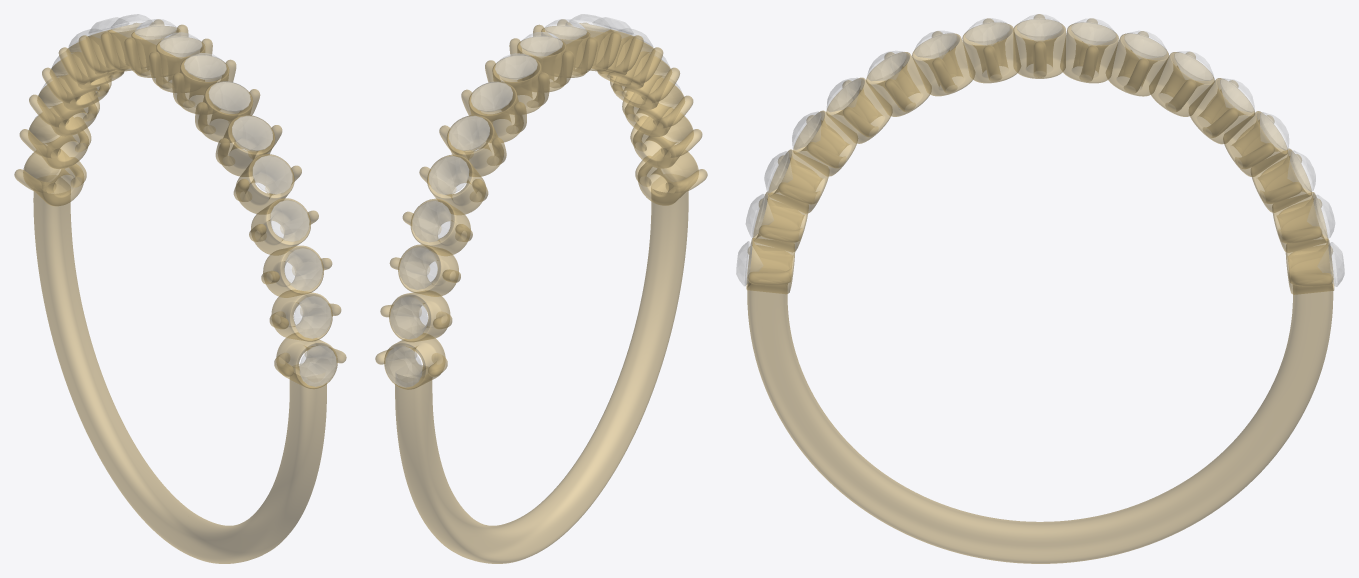
3 renders of one model, left to right at view 1: azimuth 30°, elevation 25°; view 2: azimuth 150°, elevation 25°; view 3: azimuth 270°, elevation 25°, orthographic. The views are drawn at different scales.
Visible parts, largest first — view 1: ring, diamond; view 2: ring, diamond; view 3: ring, diamond.
Boxes of the visible parts, bbox=[...] form: ring: bbox=[14, 19, 346, 563]; diamond: bbox=[25, 14, 336, 386]; ring: bbox=[375, 19, 707, 563]; diamond: bbox=[385, 14, 696, 387]; ring: bbox=[746, 14, 1334, 563]; diamond: bbox=[736, 14, 1344, 286].
Bounding box in the file's own units: 0.2947 × 2.29 × 2.33.
